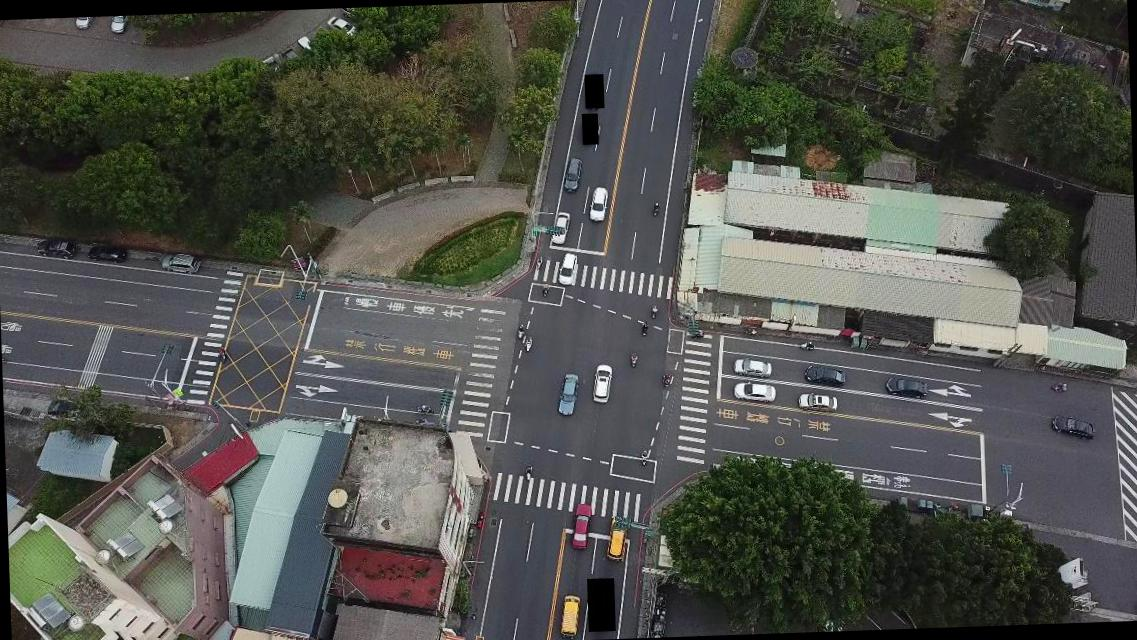vehicle: (1050, 414, 1094, 442), (568, 502, 593, 548), (553, 372, 580, 414), (802, 362, 845, 388), (883, 375, 927, 400), (732, 380, 775, 403), (559, 594, 581, 638), (589, 364, 613, 404), (160, 252, 201, 275), (34, 238, 75, 260), (732, 356, 772, 378), (85, 243, 126, 264), (794, 392, 836, 412), (586, 186, 608, 222), (560, 158, 583, 192), (558, 252, 578, 286), (550, 210, 570, 244), (325, 14, 355, 36)
